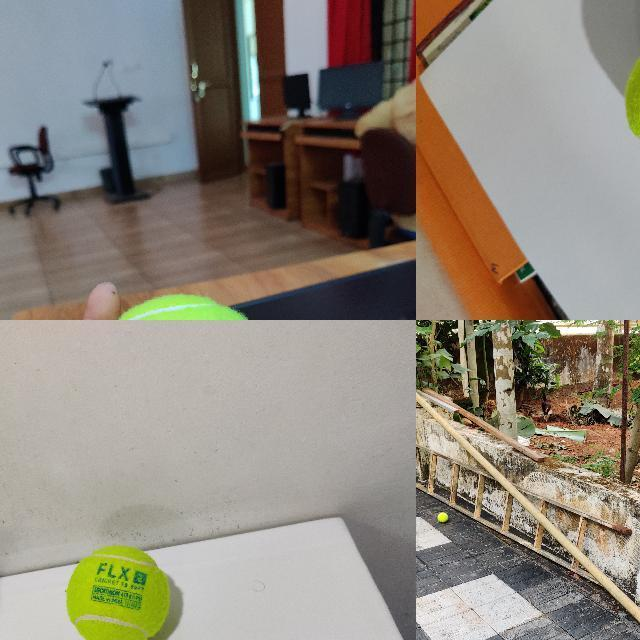tennis-ball: (64, 545, 171, 639), (437, 512, 448, 522)
